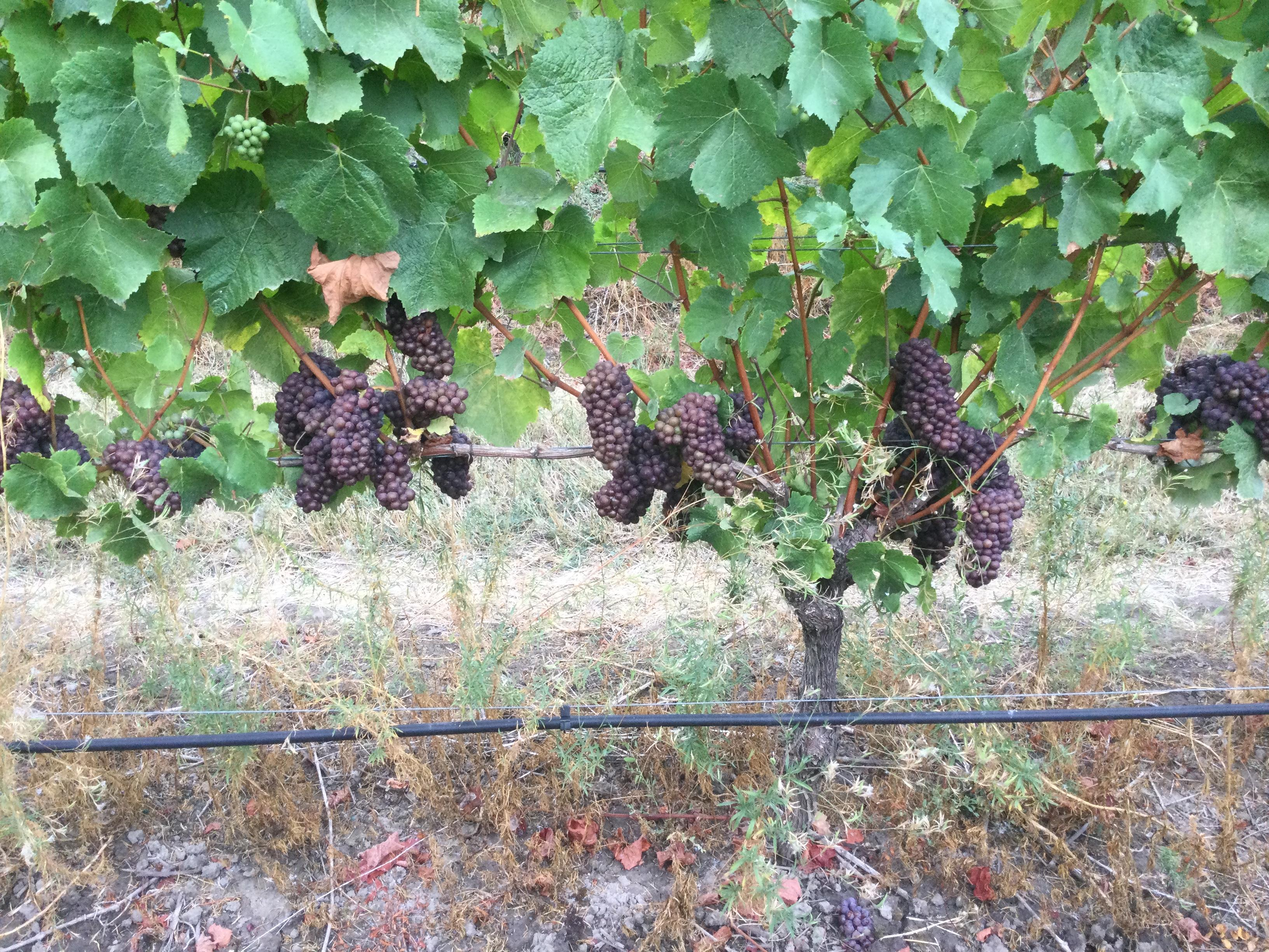leaf: (54, 44, 213, 203), (519, 17, 661, 178), (264, 112, 421, 254), (166, 169, 312, 313), (655, 71, 798, 207), (1085, 14, 1210, 162), (31, 182, 168, 303), (850, 126, 978, 245), (1177, 125, 1268, 278), (390, 170, 486, 313), (638, 177, 762, 282), (3, 5, 133, 102), (449, 327, 549, 446), (485, 205, 593, 311), (326, 0, 463, 81), (788, 19, 874, 126), (42, 278, 146, 353), (218, 0, 308, 84), (473, 166, 572, 235), (215, 301, 298, 383), (133, 45, 191, 156), (0, 117, 60, 224), (982, 224, 1071, 296), (2, 450, 96, 518), (1126, 129, 1199, 214), (707, 2, 789, 77), (198, 423, 279, 498), (847, 542, 924, 611), (1057, 170, 1122, 249), (1035, 92, 1099, 172), (966, 91, 1033, 167), (84, 503, 162, 564), (736, 273, 791, 357), (806, 112, 872, 182), (681, 285, 743, 358), (998, 10, 1051, 92), (360, 71, 424, 138), (953, 27, 1006, 107), (306, 52, 362, 123), (830, 265, 886, 332), (423, 145, 490, 199), (495, 0, 568, 49), (914, 239, 961, 315), (994, 324, 1040, 401), (159, 456, 219, 514), (922, 47, 969, 121), (605, 141, 656, 208), (6, 333, 50, 410), (1220, 425, 1264, 499), (797, 184, 851, 244), (1063, 402, 1117, 462), (686, 502, 744, 557), (1053, 0, 1099, 69), (0, 226, 50, 285), (961, 0, 1022, 45), (776, 537, 834, 583), (282, 0, 332, 50), (1179, 94, 1234, 138), (65, 409, 115, 457), (1231, 49, 1268, 107), (917, 0, 959, 50), (853, 0, 897, 43), (1099, 273, 1139, 312), (51, 0, 116, 24), (494, 337, 526, 379), (271, 285, 297, 336), (1011, 18, 1029, 32), (752, 11, 764, 19), (979, 113, 981, 121), (1014, 37, 1016, 42), (953, 90, 955, 92), (829, 571, 831, 573), (498, 239, 501, 240), (309, 285, 311, 286), (851, 550, 853, 551), (486, 239, 487, 240), (736, 8, 739, 8), (828, 14, 831, 14), (204, 454, 205, 454)
